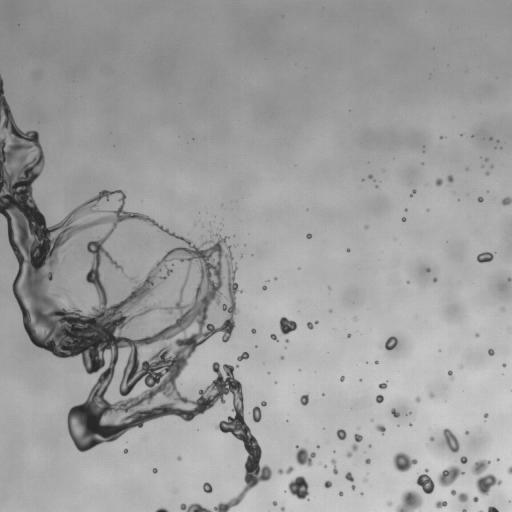droplet: (471, 459, 501, 495), (437, 465, 463, 486), (396, 490, 422, 511), (288, 476, 309, 499), (393, 452, 417, 472), (416, 468, 434, 493), (296, 446, 315, 466), (279, 317, 297, 335), (385, 336, 397, 350), (477, 252, 493, 262), (251, 406, 261, 422), (237, 352, 249, 361), (375, 424, 385, 434), (336, 429, 346, 439), (307, 320, 318, 329), (203, 482, 212, 493), (435, 500, 447, 508), (345, 472, 354, 482), (300, 394, 308, 405), (502, 197, 511, 205), (391, 408, 399, 417), (270, 333, 278, 341), (435, 178, 442, 186), (379, 382, 387, 389), (376, 395, 383, 403), (324, 480, 331, 488), (488, 506, 498, 511), (460, 456, 467, 463), (447, 175, 453, 182), (477, 196, 483, 202), (488, 349, 494, 355), (507, 466, 511, 474), (429, 392, 434, 398), (365, 458, 370, 464), (473, 496, 478, 502), (415, 397, 420, 402), (261, 401, 266, 406), (346, 452, 351, 457), (152, 468, 157, 473), (386, 501, 392, 505), (306, 234, 311, 238), (262, 285, 266, 290), (251, 328, 255, 333), (340, 376, 344, 381), (429, 437, 434, 441), (272, 501, 277, 505), (368, 174, 372, 178), (502, 363, 506, 367), (177, 456, 181, 460), (280, 507, 284, 511), (484, 413, 487, 418), (485, 172, 489, 175), (402, 217, 405, 221), (426, 268, 430, 271), (433, 278, 437, 281), (347, 333, 350, 337), (475, 333, 479, 336), (352, 485, 355, 489), (339, 491, 342, 495), (508, 278, 511, 281), (375, 361, 378, 364), (465, 431, 468, 434), (124, 449, 127, 452), (462, 509, 466, 511), (365, 225, 367, 228), (286, 339, 288, 342), (281, 356, 283, 359), (485, 158, 487, 160), (491, 165, 493, 167), (347, 249, 349, 251), (62, 259, 64, 261), (328, 287, 330, 289), (354, 317, 356, 319), (150, 319, 152, 321), (409, 423, 411, 425), (364, 479, 366, 481)
ligament: (0, 75, 271, 511), (443, 428, 459, 452), (450, 489, 468, 502), (351, 434, 362, 451), (278, 466, 294, 474), (331, 458, 337, 474), (448, 370, 453, 379), (156, 508, 168, 511), (410, 190, 415, 196), (479, 510, 482, 511)
